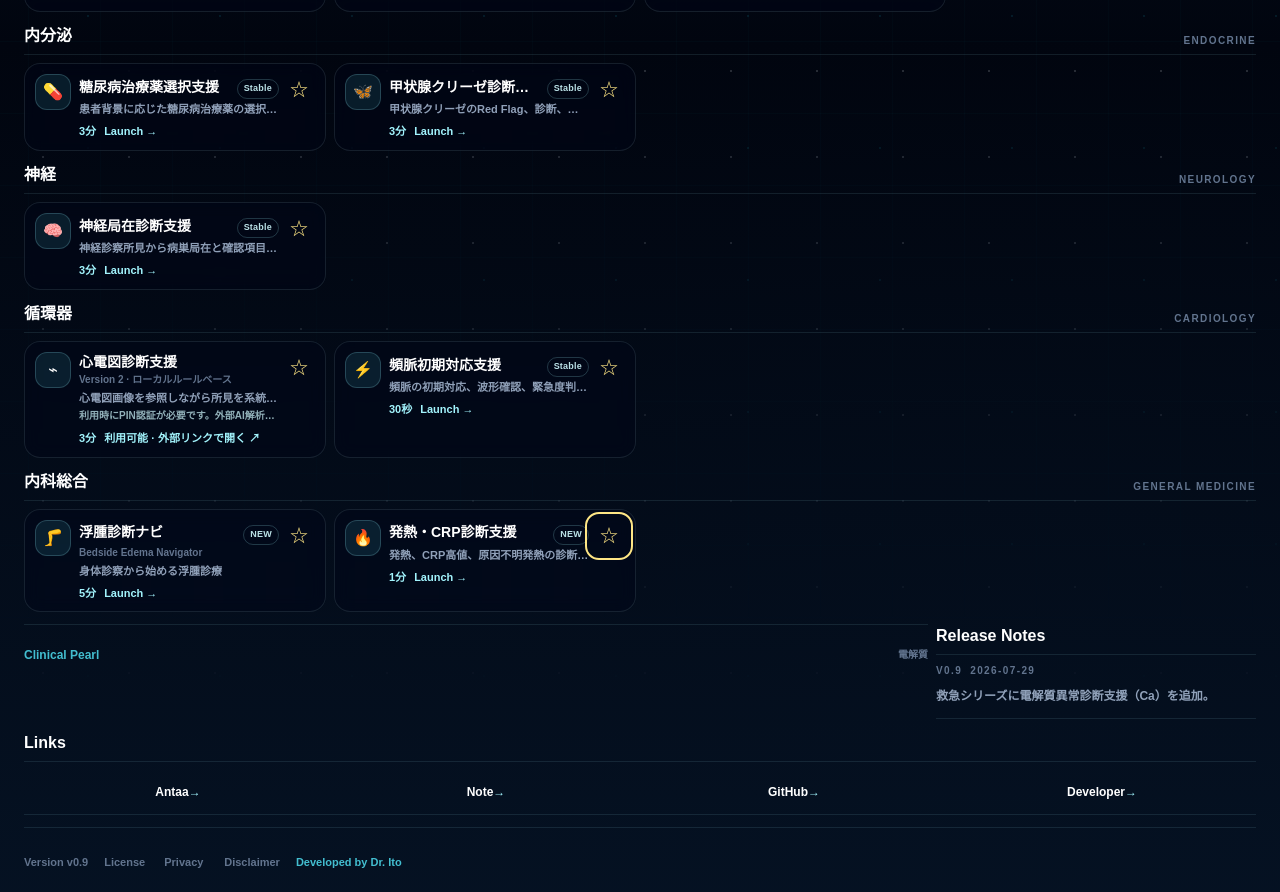
Medical AI Console v3 › supports keyboard activation for Favorite controls
(page scrolled)
Press Enter in the button named "発熱・CRP診断支援をFavoriteに追加", box x1=587 y1=514 x2=631 y2=558
Click the button named "発熱・CRP診断支援をFavoriteに追加". click: (609, 536)
box: x1=587 y1=514 x2=631 y2=558
(page scrolled)
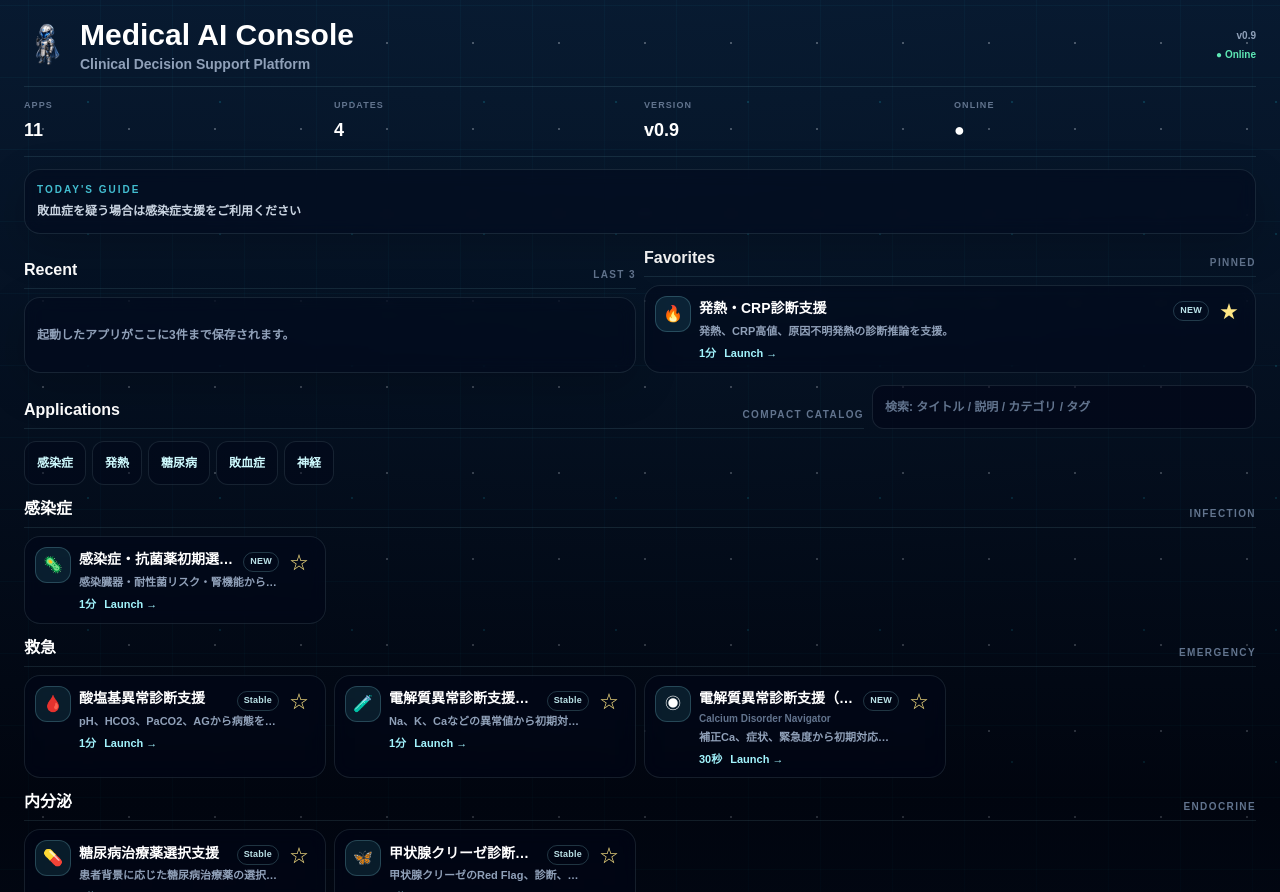
Expected: the heading "発熱・CRP診断支援" is shown, x1=699 y1=300 x2=827 y2=316
